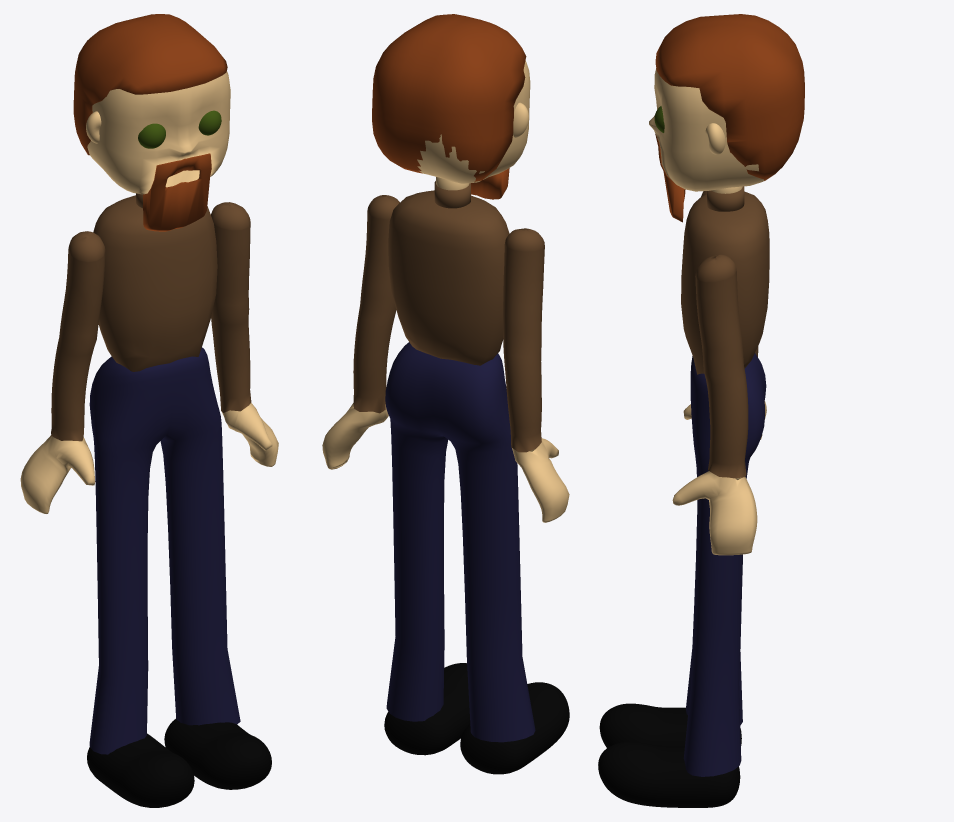
File: MalePedestrian.fbx
The picture shows the model from 3 angles, left to right: view 1: azimuth 30°, elevation 25°; view 2: azimuth 150°, elevation 25°; view 3: azimuth 270°, elevation 25°; orthographic projection. The views are drawn at different scales.
Parts seen in each view (by area): view 1: Sphere.026, Sphere.002; view 2: Sphere.026, Sphere.002; view 3: Sphere.026, Sphere.002.
Part boxes in pixels (left/top/right/bottom): Sphere.026: left=20, top=71, right=278, bottom=807; Sphere.002: left=73, top=14, right=227, bottom=155; Sphere.026: left=322, top=60, right=569, bottom=774; Sphere.002: left=372, top=14, right=526, bottom=181; Sphere.026: left=598, top=68, right=769, bottom=807; Sphere.002: left=655, top=14, right=804, bottom=180.
Bounding box in the file's own units: 308 × 901 × 367.
